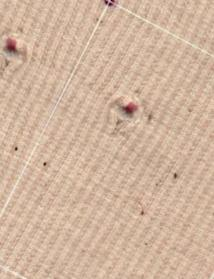hole: (111, 92, 150, 128), (2, 34, 28, 65)
stain: (164, 157, 187, 191), (37, 155, 60, 177), (98, 0, 128, 15), (132, 203, 151, 223), (10, 136, 25, 158)
